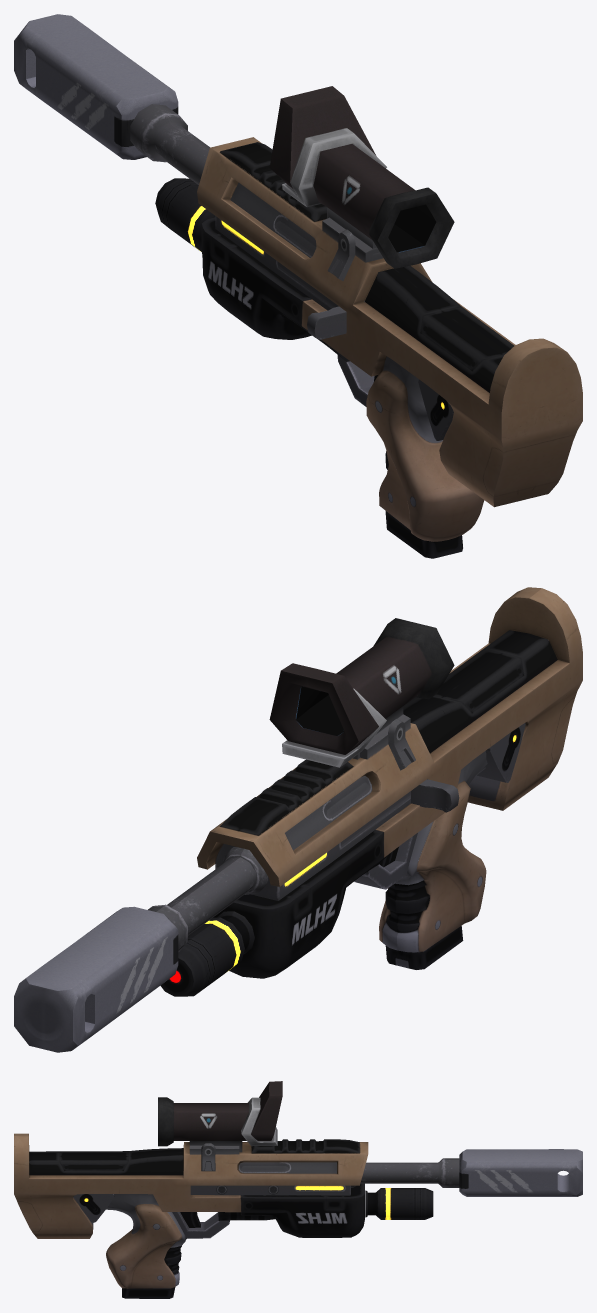
File: IG_Gun_TecSniper.fbx
The picture shows the model from 3 angles, top to bottom: view 1: azimuth 30°, elevation 25°; view 2: azimuth 150°, elevation 25°; view 3: azimuth 270°, elevation 25°; orthographic projection. The views are drawn at different scales.
Visible parts, largest first — view 1: WPN_SniperRifle; view 2: WPN_SniperRifle; view 3: WPN_SniperRifle.
Boxes of the visible parts, x1,y1,x2,y2 form: WPN_SniperRifle: (14,14,582,558); WPN_SniperRifle: (14,587,582,1052); WPN_SniperRifle: (14,1081,582,1298).
Size of the model in its own units: 0.1587 by 0.4673 by 1.17.
